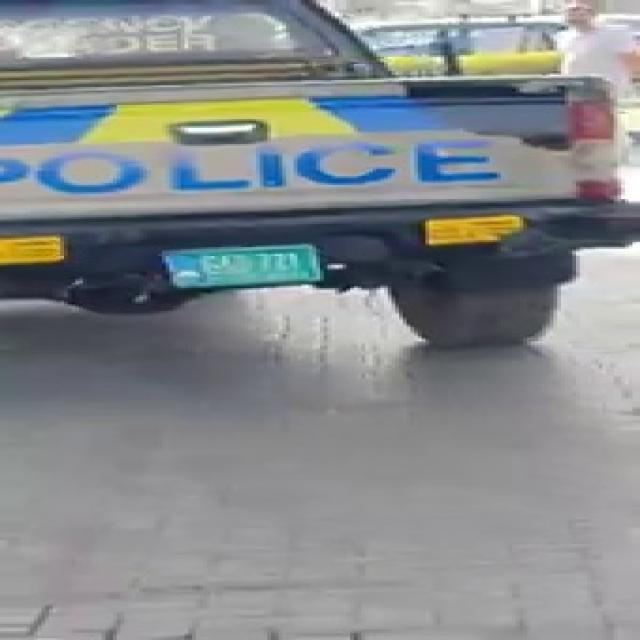police: (0, 7, 640, 350)
